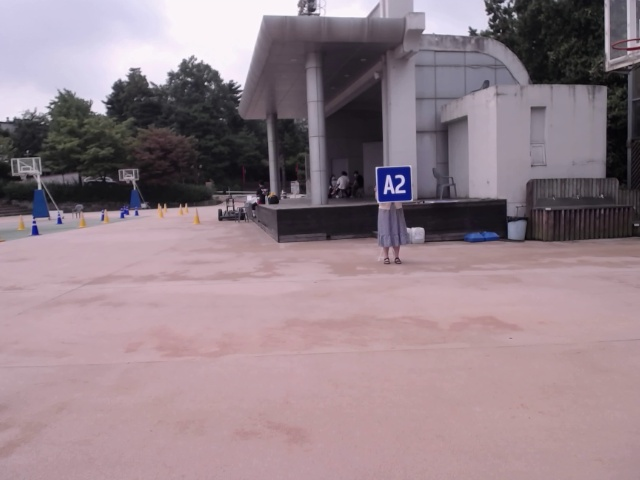delivery_a2: (377, 166, 413, 203)
